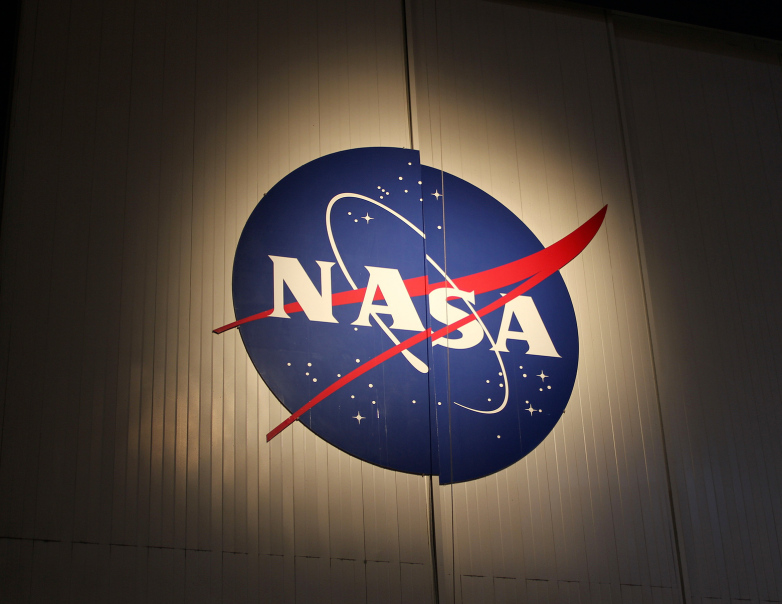NASA: (199, 143, 611, 486)
